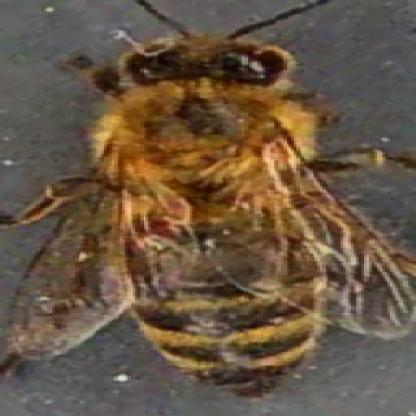bee: (64, 25, 390, 396)
